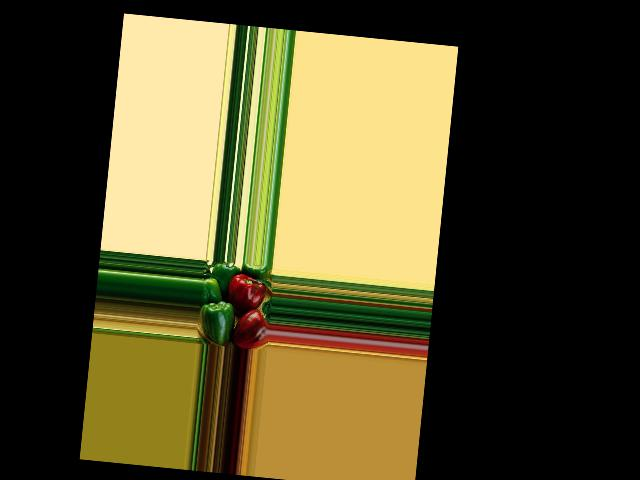bell_pepper: (233, 307, 269, 350)
